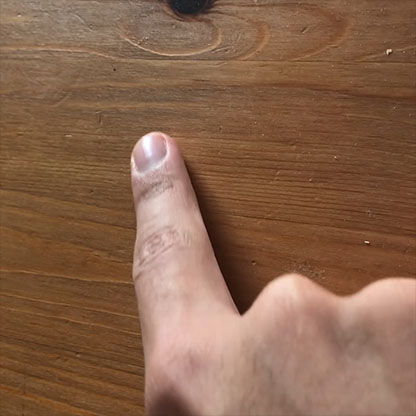fingertip: (112, 126, 198, 191)
